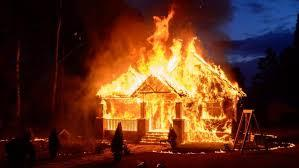fire: (115, 53, 230, 147)
